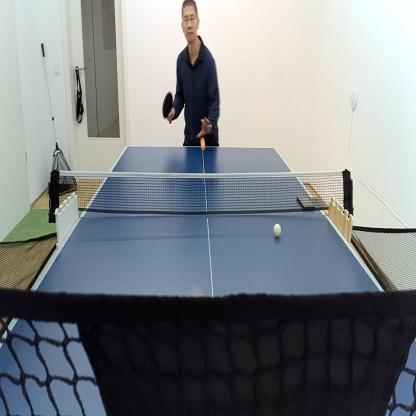Ball: (162, 90, 176, 127), (272, 221, 282, 240), (199, 135, 207, 152)
